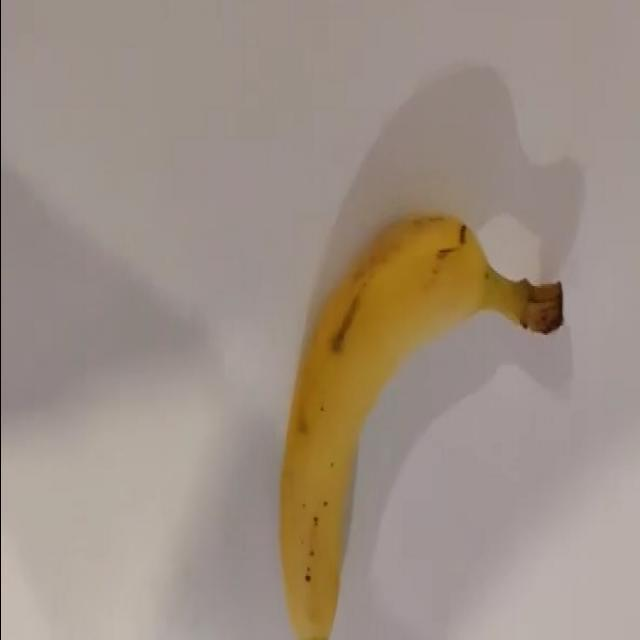Banana: (278, 212, 563, 639)
